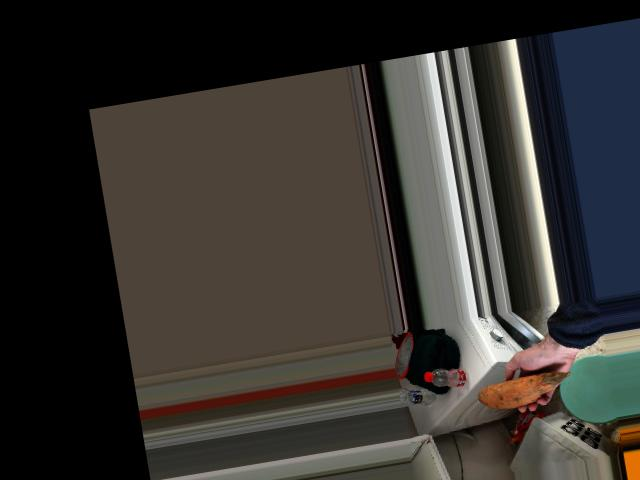sweet_potato: (485, 369, 568, 412)
